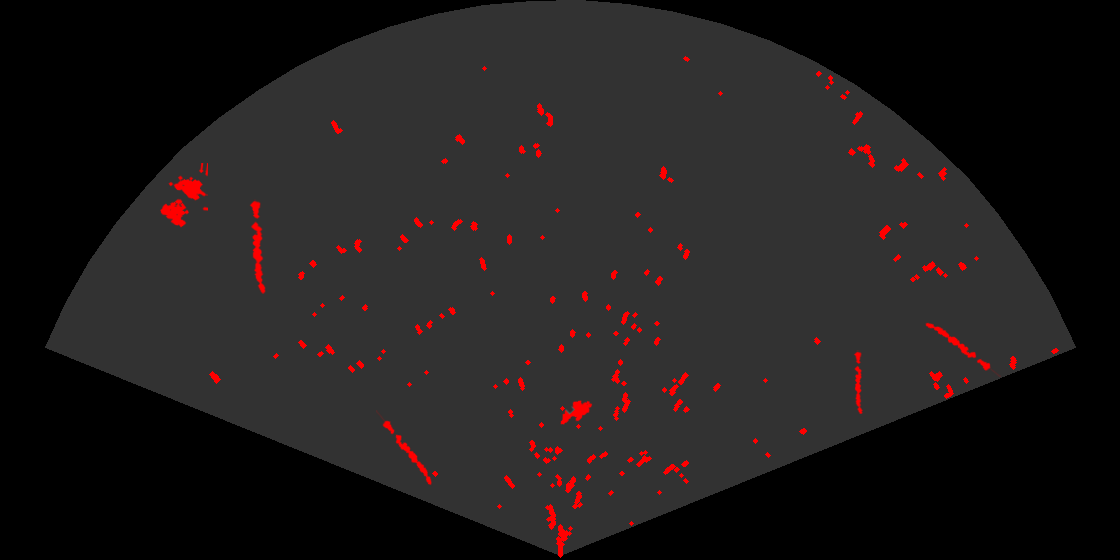AUV: (559, 399, 594, 426)
cage: (159, 163, 208, 229)
chain: (376, 410, 433, 487), (924, 321, 1001, 377), (248, 199, 267, 294), (852, 350, 864, 414)
